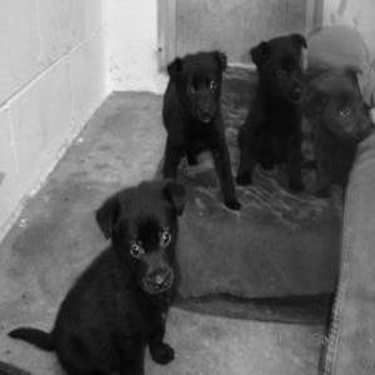dog: (2, 171, 195, 371), (152, 44, 245, 219), (236, 25, 307, 198), (296, 61, 372, 202)
